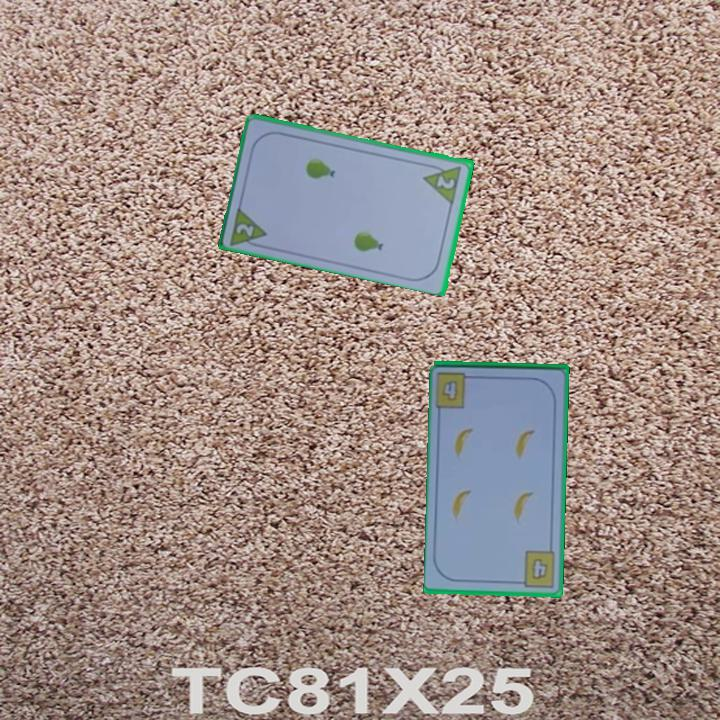2p: (226, 202, 271, 251), (421, 160, 465, 205)
4b: (514, 547, 558, 590), (439, 377, 461, 404)
